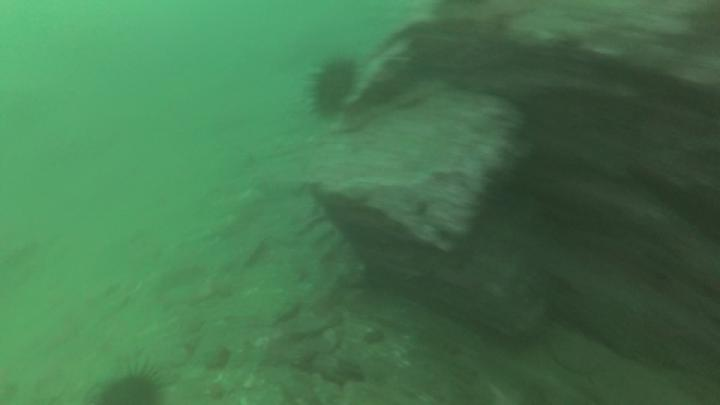echinus: (307, 54, 362, 127), (95, 365, 167, 405)
